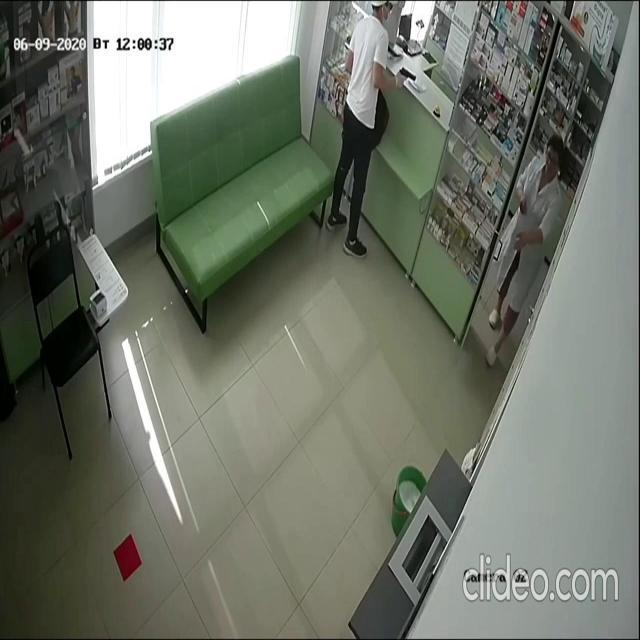pistol: (399, 66, 417, 82)
